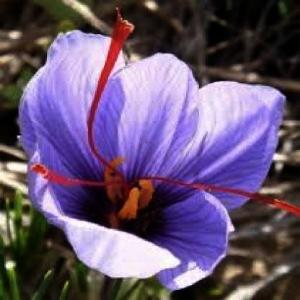Saffron: (17, 30, 287, 290)
